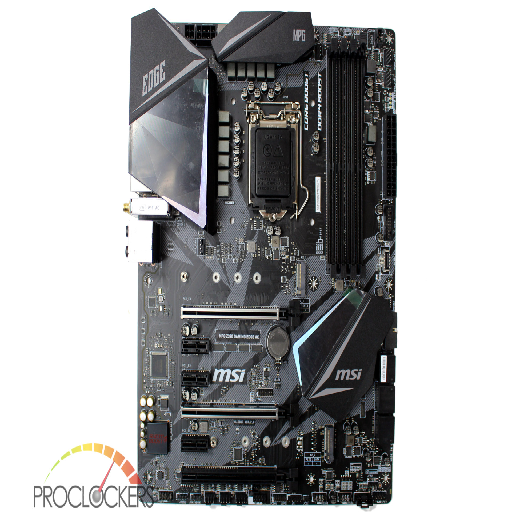CPU: (247, 105, 300, 220)
GPU: (180, 403, 300, 426), (179, 464, 298, 486), (180, 306, 298, 325)
MOTHERBOARD: (130, 15, 394, 510)
RAM: (325, 33, 366, 277)
SSD: (323, 427, 335, 461), (294, 263, 307, 291)
